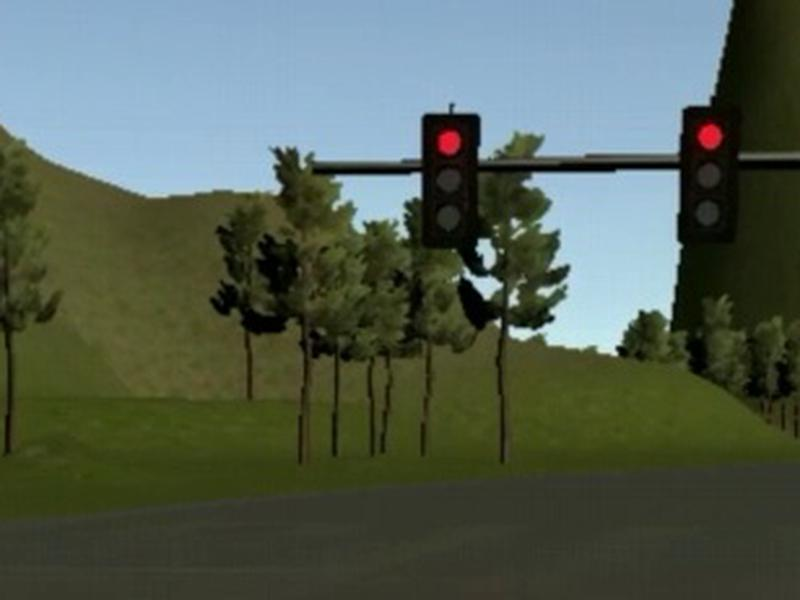Red: (681, 105, 738, 244), (422, 115, 479, 247)
